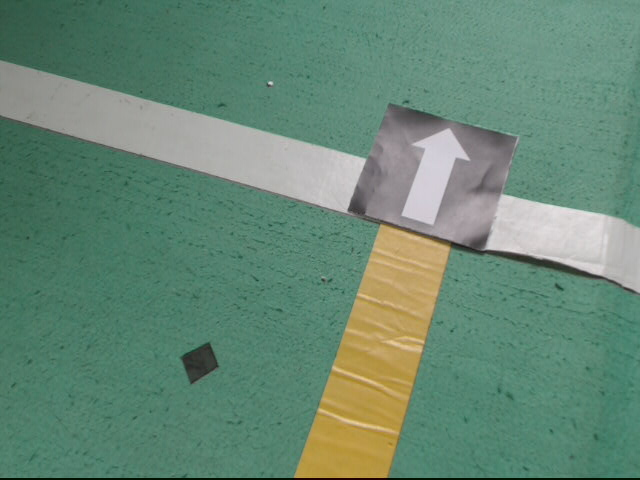straight: (348, 104, 523, 258)
